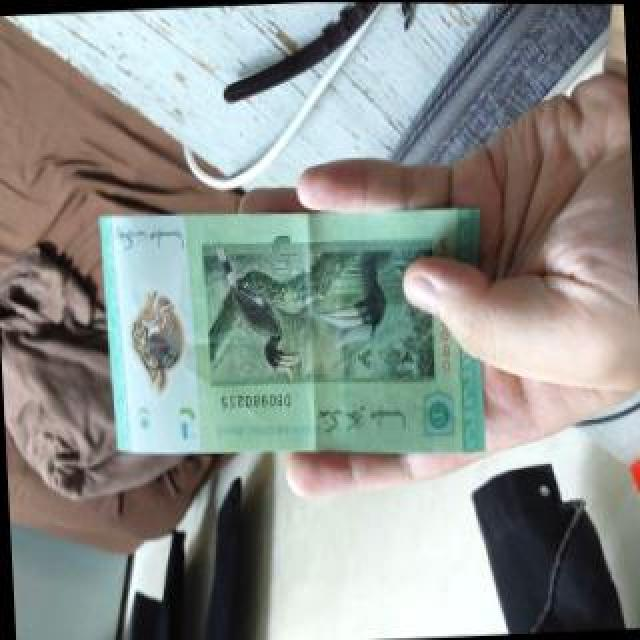5 Ringgit: (90, 202, 482, 466)
